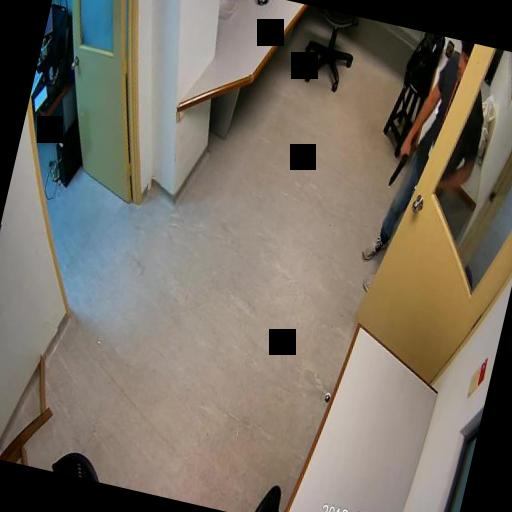Handgun: (386, 146, 409, 188)
